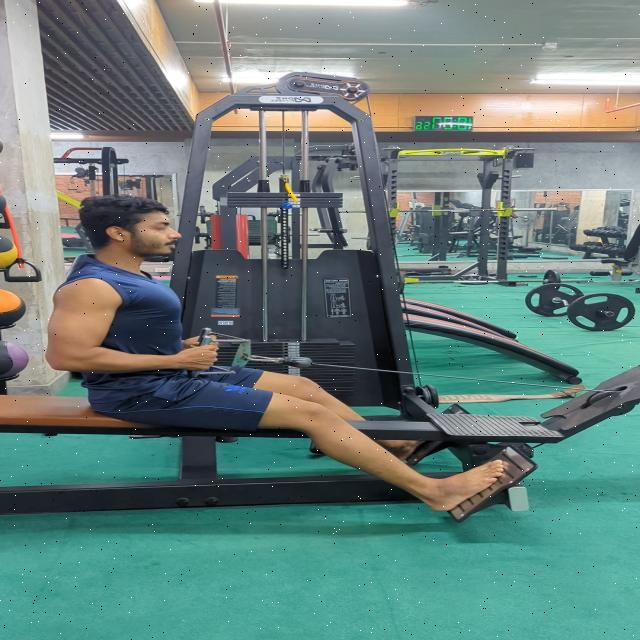Normal_RowingMachineExercise: (42, 195, 509, 514)
